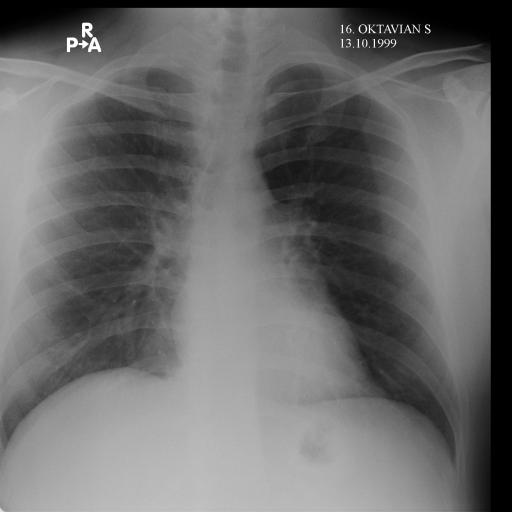normal: (0, 48, 473, 477)
